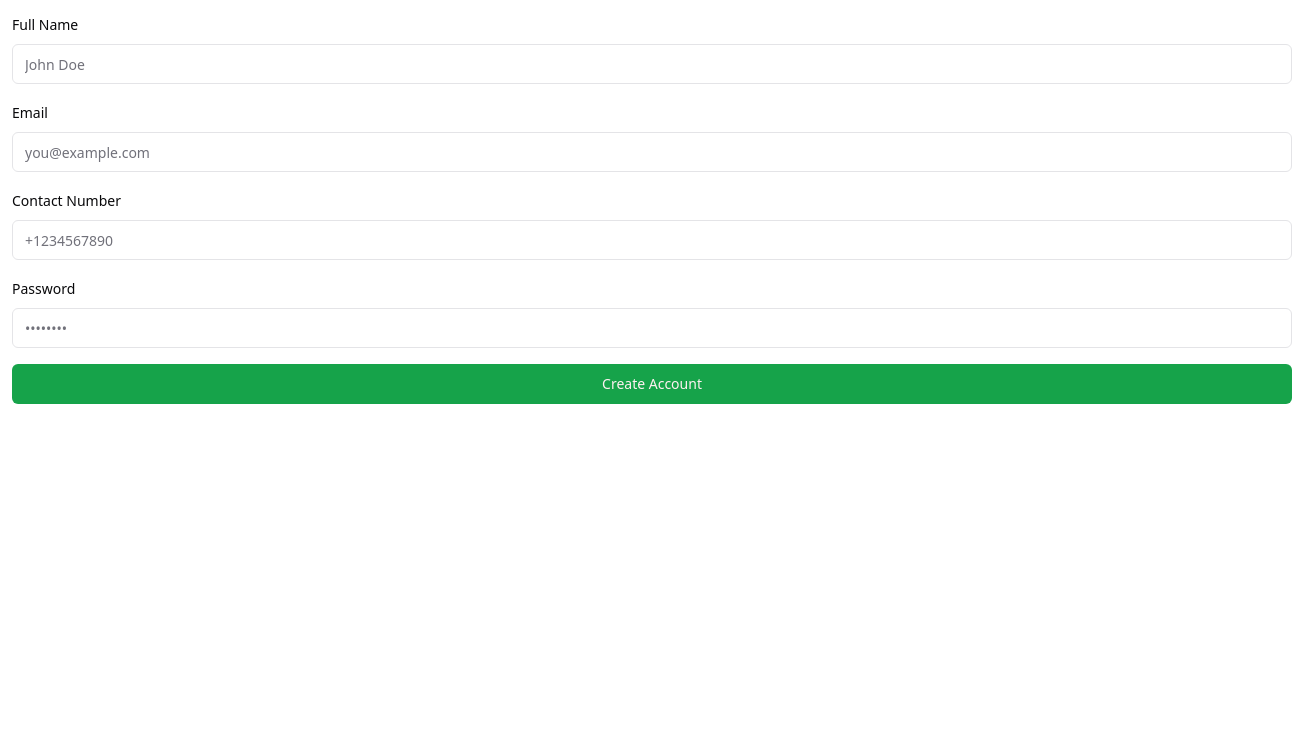
Test: RegisterForm › should validate name length
Type "A" into the field with placeholder "John Doe" at (652, 64), box [12, 44, 1292, 84]
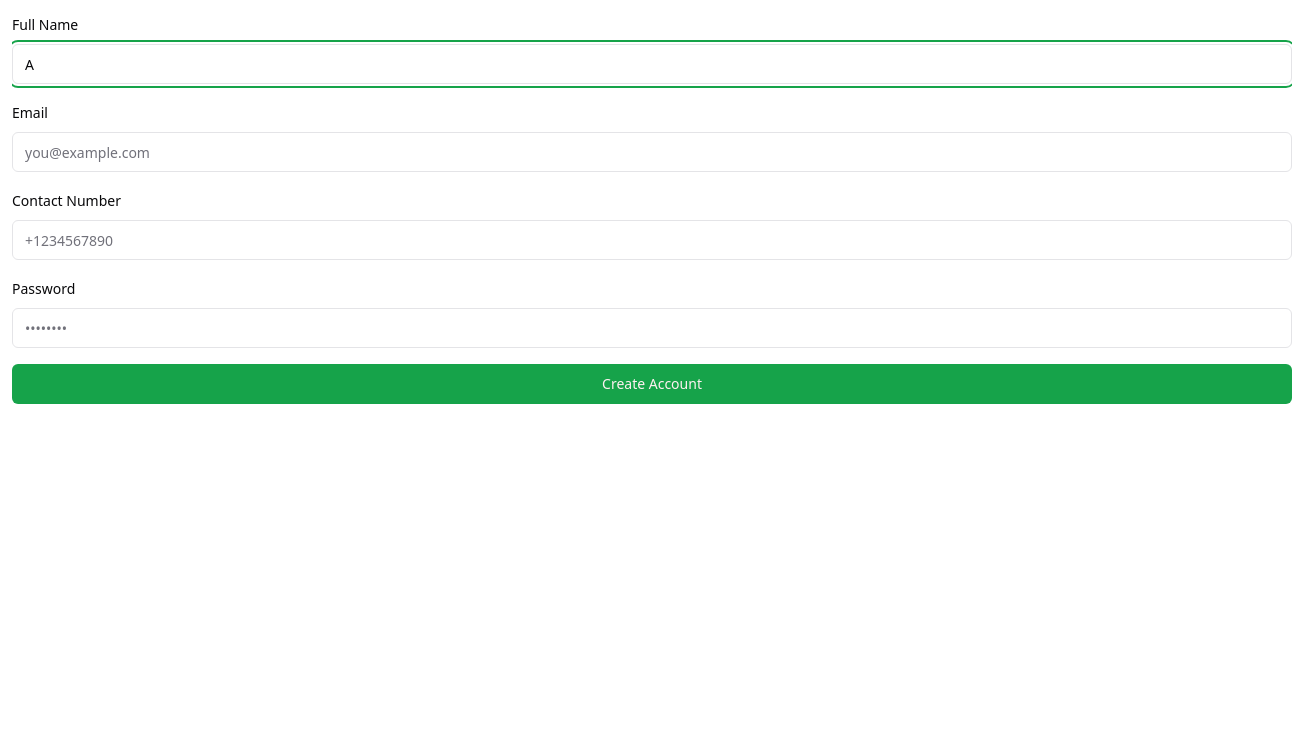
Click the button "Create Account" at (652, 384), box [12, 364, 1292, 404]
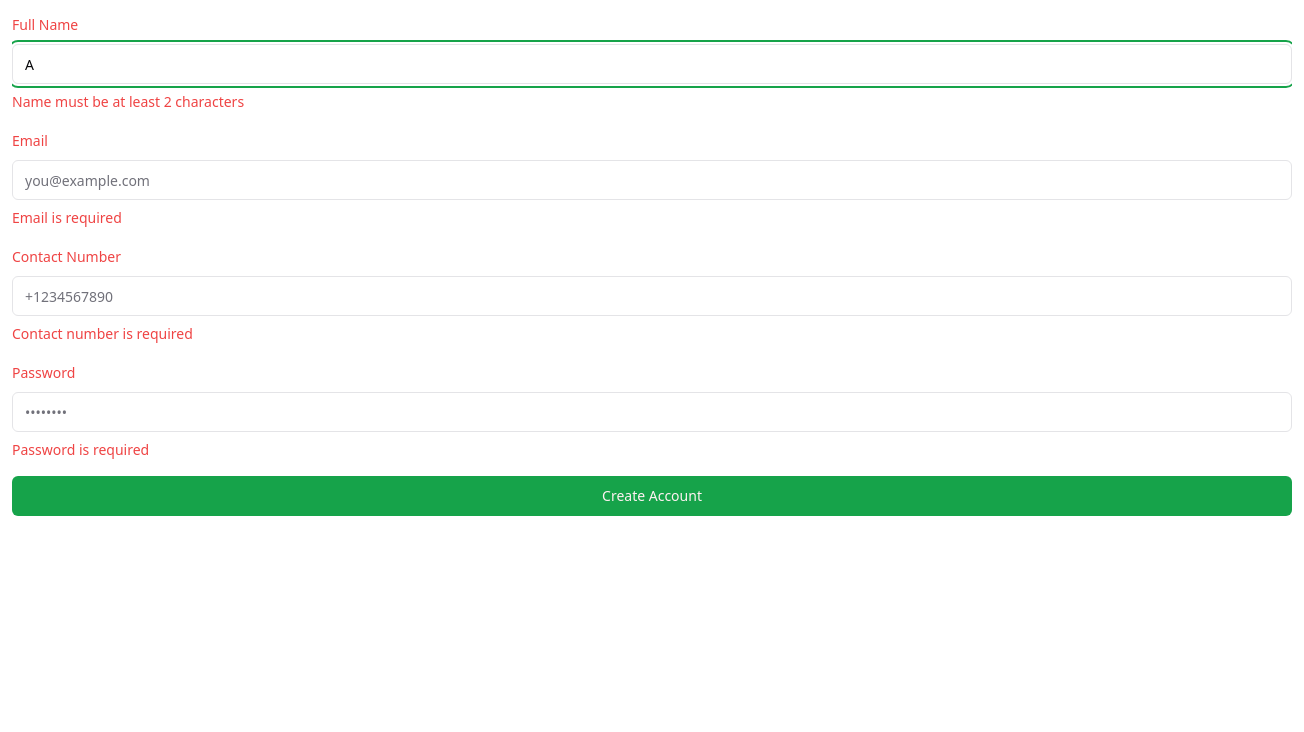
Expected: the text "Name must be at least 2 characters" is shown, [12, 92, 244, 111]
